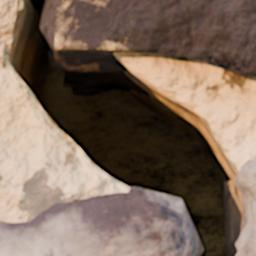brick: (45, 0, 255, 75)
broken_brick: (0, 190, 188, 255), (238, 159, 255, 255)
crack: (0, 0, 254, 255)
